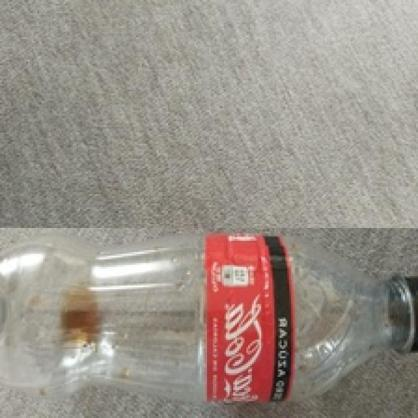bottle: (0, 228, 418, 418)
label: (204, 229, 294, 410)
